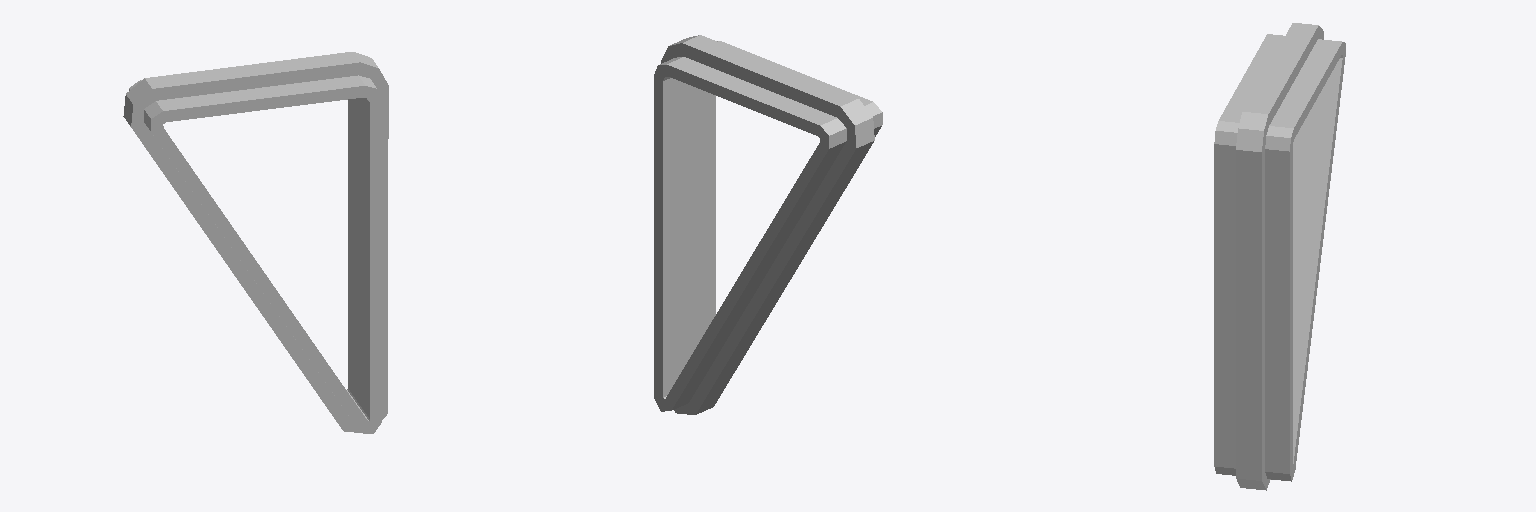
File: strut.obj
The picture shows the model from 3 angles: view 1: azimuth 30°, elevation 25°; view 2: azimuth 150°, elevation 25°; view 3: azimuth 270°, elevation 25°; orthographic projection.
Parts seen in each view (by area): view 1: pCube5; view 2: pCube5; view 3: pCube5.
Part boxes in pixels (x1,y1,x2,y2): pCube5: (123, 52, 388, 433); pCube5: (654, 35, 882, 414); pCube5: (1214, 23, 1345, 490).
Size of the model in its own units: 0.8598 by 1.32 by 0.4219.